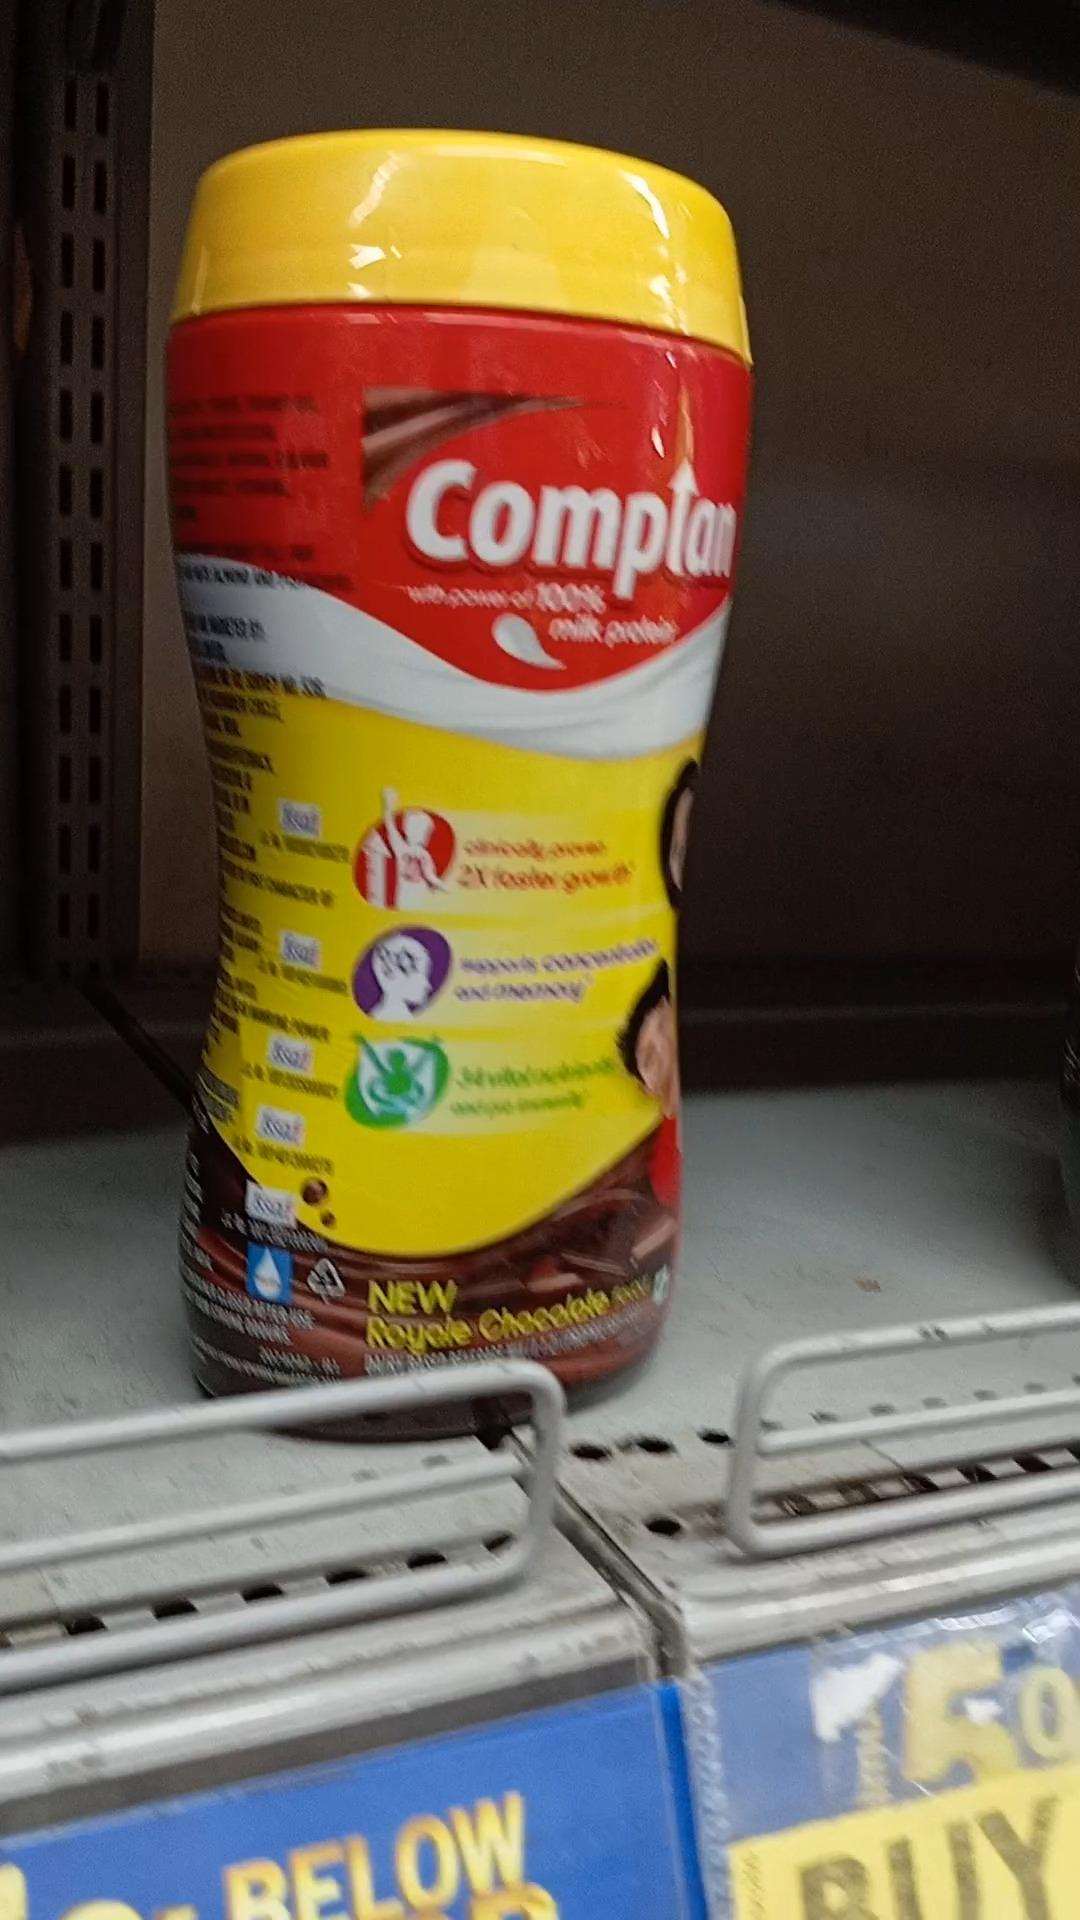COMPLAN_CHOCOLATE_500_GMS_JAR: (175, 115, 725, 1435)
